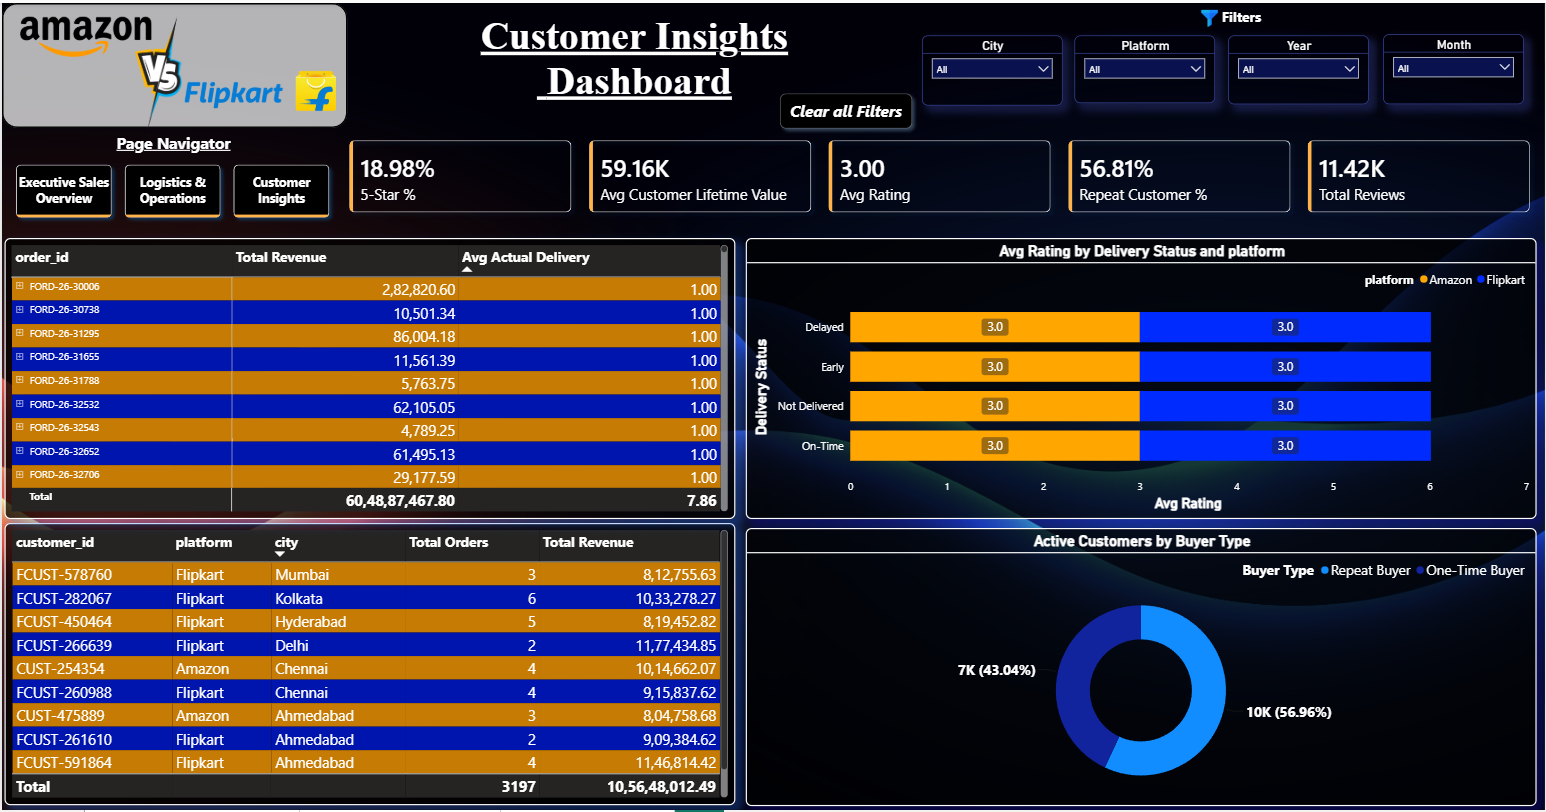

Layout of this report page (visuals, bound fields, positions):
{"tool":"powerbi","page":{"name":"Customer Insights","canvas":[2100,1100],"ordinal":2},"visuals":[{"type":"shape","box":[0,0,470,170],"z":0,"group":"g1"},{"type":"slicer","title":"Month","fields":{"Values":["Calendar.Date.Variation.Date Hierarchy.Month"]},"box":[1877.9,43.8,191.3,95.6],"z":0,"group":"g2"},{"type":"cardVisual","fields":{"Data":["3_measures.5-Star %","3_measures.Avg Customer Lifetime Value","3_measures.Avg Rating","3_measures.Repeat Customer %","3_measures.Total Reviews"]},"box":[456,170,1644,132],"z":0},{"type":"image","box":[0,18,228,54],"z":1000,"group":"g1"},{"type":"slicer","title":"Year","fields":{"Values":["Calendar.Year"]},"box":[1668.1,45.6,191.3,93.9],"z":1000,"group":"g2"},{"type":"barChart","fields":{"Category":["orders.Delivery Status"],"Y":["3_measures.Avg Rating"],"Series":["customers.platform"]},"box":[1012,320,1076,382],"z":1000},{"type":"image","box":[66,0,292,192],"z":2000,"group":"g1"},{"type":"slicer","title":"Platform","fields":{"Values":["orders.platform"]},"box":[1458.2,45.6,191.3,92.2],"z":2000,"group":"g2"},{"type":"tableEx","fields":{"Values":["customers.customer_id","customers.platform","customers.city","1_measures.Total Orders","1_measures.Total Revenue"]},"box":[4,707,994,384],"z":2000},{"type":"image","box":[214,14,274,212],"z":3000,"group":"g1"},{"type":"slicer","title":"City","fields":{"Values":["customers.city"]},"box":[1251.2,45.6,191.3,95.6],"z":3000,"group":"g2"},{"type":"pivotTable","fields":{"Rows":["orders.order_id","Calendar.Date.Variation.Date Hierarchy.Year","Calendar.Date.Variation.Date Hierarchy.Quarter","Calendar.Date.Variation.Date Hierarchy.Month","Calendar.Date.Variation.Date Hierarchy.Day","customers.first_name","products.product_name","orders.order_status"],"Values":["1_measures.Total Revenue","2_measures.Avg Actual Delivery"]},"box":[4,320,994,382],"z":3000},{"type":"textbox","box":[1640.9,2.5,90,56.2],"z":4000,"group":"g2"},{"type":"donutChart","fields":{"Y":["1_measures.Active Customers"],"Category":["customers.Buyer Type"]},"box":[1012,714,1076,378],"z":4000},{"type":"group","id":"g1","title":"Group 2","box":[0,0,488,226],"z":4002},{"type":"group","id":"g2","title":"Group 1","box":[1251.2,2.5,818,138.6],"z":4003},{"type":"textbox","box":[470,10,782,142],"z":4004},{"type":"actionButton","box":[1050,114,198,66],"z":4005},{"type":"image","box":[1630,10,23.8,25],"z":5000,"group":"g2"},{"type":"pageNavigator","box":[10,211.7,446.7,90],"z":8000},{"type":"textbox","box":[84,170,300,42],"z":9000}]}

Visuals, with their boxes in screenshot pixels (x1, y1, x2, y2), scaled from the page's 2100x1100 canvas onto the 1546x812 screenshot:
shape: box=[0, 0, 346, 125]
"Month" slicer: box=[1382, 32, 1523, 103]
cardVisual - 3_measures.5-Star % x 3_measures.Avg Customer Lifetime Value: box=[336, 125, 1545, 223]
image: box=[0, 13, 168, 53]
"Year" slicer: box=[1228, 34, 1369, 103]
barChart - orders.Delivery Status x 3_measures.Avg Rating: box=[745, 236, 1537, 518]
image: box=[49, 0, 264, 142]
"Platform" slicer: box=[1074, 34, 1214, 102]
tableEx - customers.customer_id x customers.platform: box=[3, 522, 735, 805]
image: box=[158, 10, 359, 167]
"City" slicer: box=[921, 34, 1062, 104]
pivotTable - orders.order_id x Calendar.Date.Variation.Date Hierarchy.Year: box=[3, 236, 735, 518]
textbox: box=[1208, 2, 1274, 43]
donutChart - 1_measures.Active Customers x customers.Buyer Type: box=[745, 527, 1537, 806]
"Group 2" group: box=[0, 0, 359, 167]
"Group 1" group: box=[921, 2, 1523, 104]
textbox: box=[346, 7, 922, 112]
actionButton: box=[773, 84, 919, 133]
image: box=[1200, 7, 1218, 26]
pageNavigator: box=[7, 156, 336, 223]
textbox: box=[62, 125, 283, 156]
